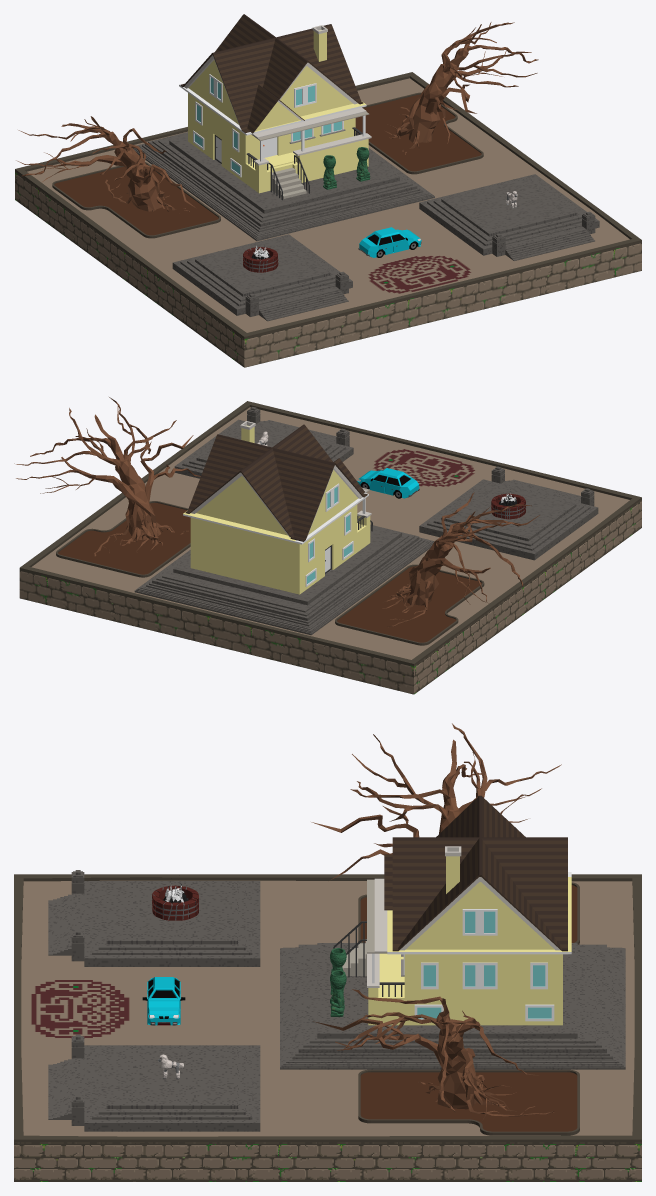
3 views of the same model, one above another, from view 1: azimuth 30°, elevation 25°; view 2: azimuth 150°, elevation 25°; view 3: azimuth 270°, elevation 25° (orthographic). The views are drawn at different scales.
Visible parts, largest first — view 1: Cube.011, Cube.1555, VEHICLES_CAR, OBJRANDOM_CAMPFIRE; view 2: Cube.011, Cube.1555, VEHICLES_CAR, OBJRANDOM_CAMPFIRE; view 3: Cube.011, Cube.1555, VEHICLES_CAR, OBJRANDOM_CAMPFIRE.
Boxes of the visible parts, x1=… form: Cube.011: x1=15, y1=22, x2=641, y2=367; Cube.1555: x1=179, y1=14, x2=371, y2=200; VEHICLES_CAR: x1=358, y1=227, x2=421, y2=257; OBJRANDOM_CAMPFIRE: x1=243, y1=245, x2=278, y2=272; Cube.011: x1=14, y1=397, x2=641, y2=694; Cube.1555: x1=183, y1=421, x2=372, y2=594; VEHICLES_CAR: x1=357, y1=468, x2=419, y2=498; OBJRANDOM_CAMPFIRE: x1=491, y1=493, x2=525, y2=519; Cube.011: x1=14, y1=723, x2=641, y2=1181; Cube.1555: x1=333, y1=795, x2=571, y2=1025; VEHICLES_CAR: x1=142, y1=977, x2=185, y2=1025; OBJRANDOM_CAMPFIRE: x1=152, y1=883, x2=198, y2=920.
Bounding box in the file's own units: 5099 × 1662 × 4000.
Materials: 36 (5 with a texture image).
